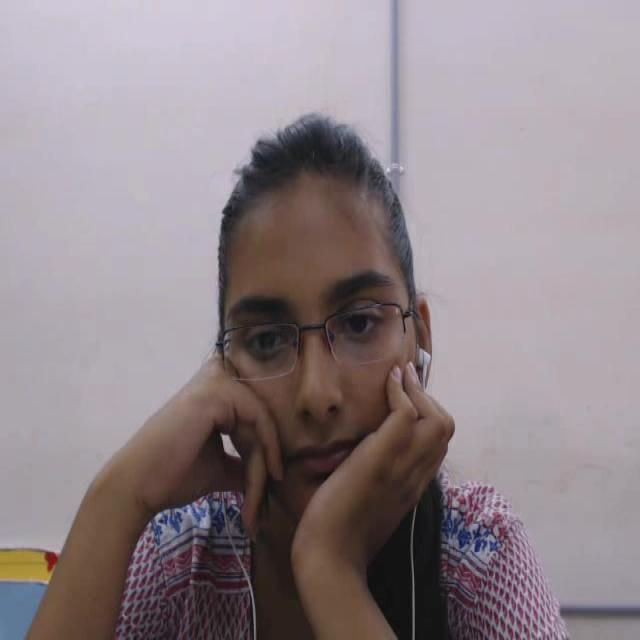Bored: (179, 94, 461, 560)
